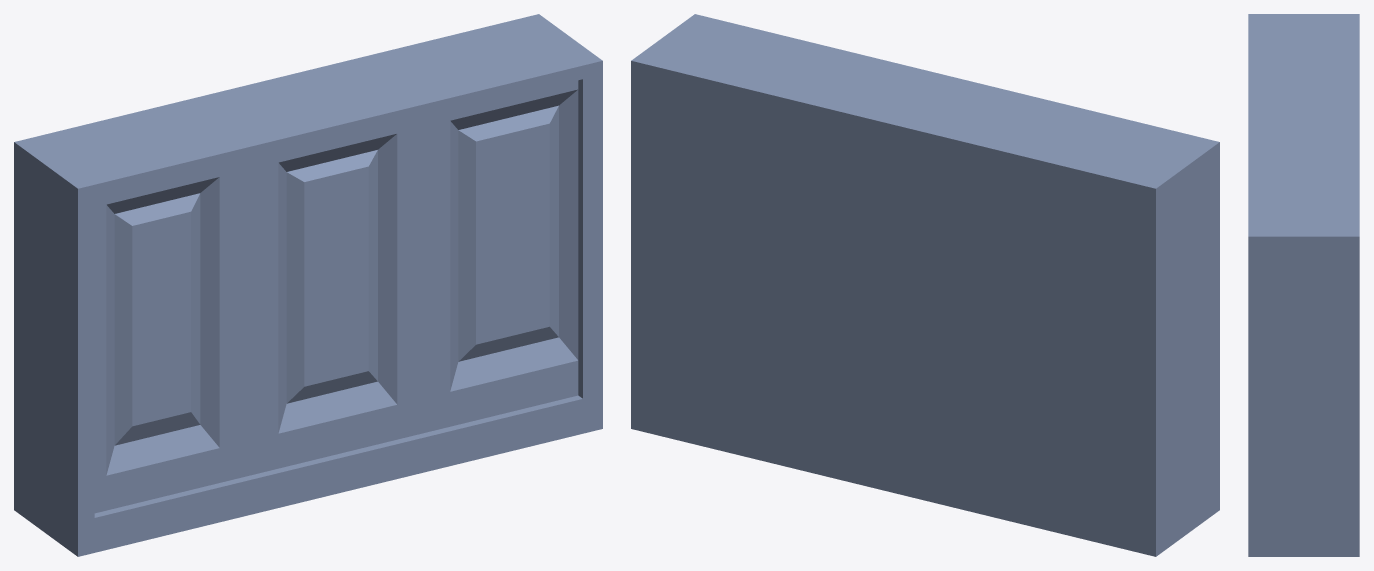
The model's file is Cab.fbx.
3 renders of one model, left to right at view 1: azimuth 30°, elevation 25°; view 2: azimuth 150°, elevation 25°; view 3: azimuth 270°, elevation 25°, orthographic. The views are drawn at different scales.
Visible parts, largest first — view 1: Cab1; view 2: Cab1; view 3: Cab1.
Part boxes in pixels (box(x1,y1,x2,y2)): Cab1: box(14, 14, 602, 556); Cab1: box(631, 14, 1219, 556); Cab1: box(1248, 14, 1359, 556).
Size of the model in its own units: 248 by 166 by 52.2.
